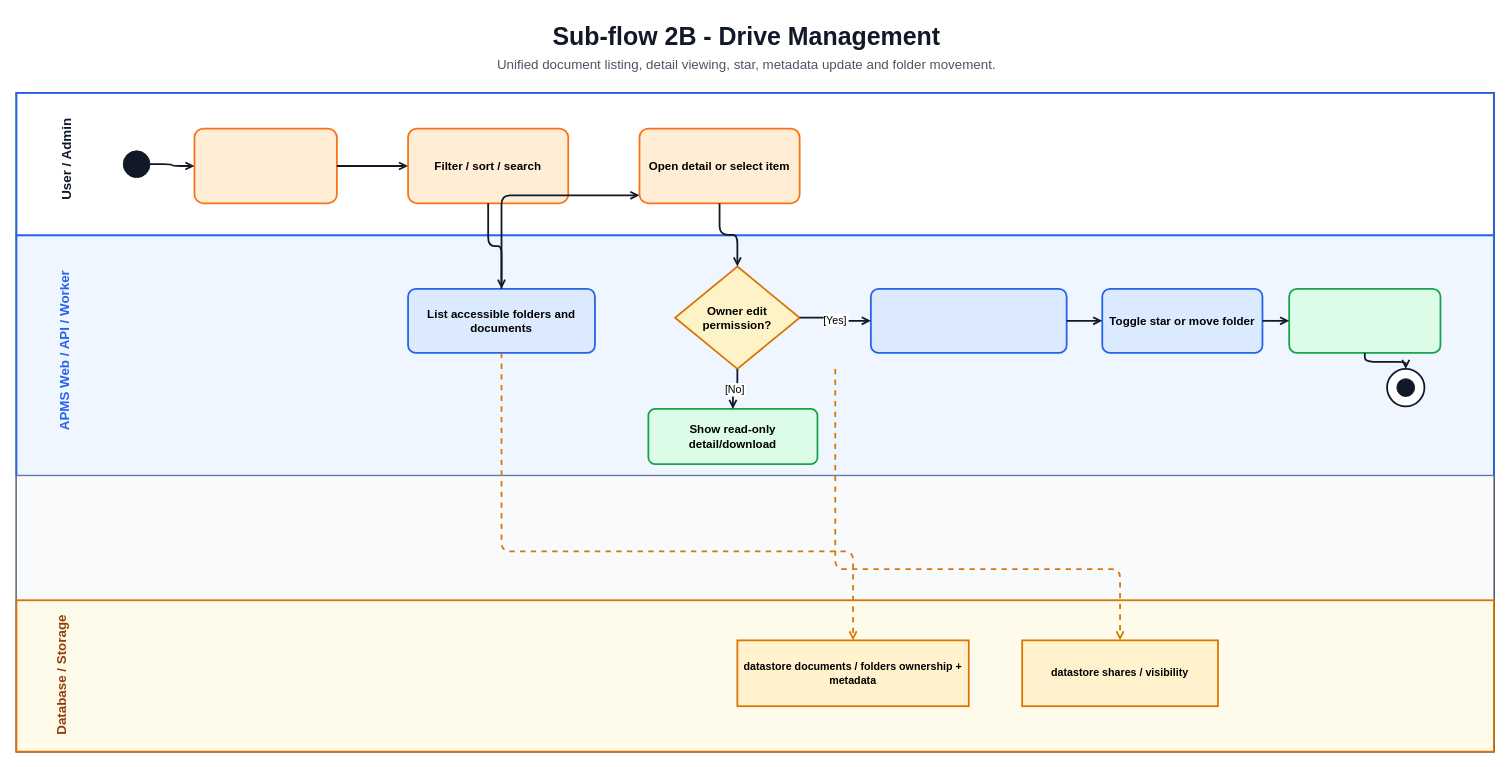
Some shapes in this 1509 by 767 pixel diagram are drawn without their labels. The shapes that lost their labels are listed below. From the top down, each one's centre as x and y in pixels, then its label:
point (265, 165): Open Drive view
point (968, 320): Update title, tags, folder or course slot
point (1364, 320): Refresh Drive list
point (755, 537): External Services
